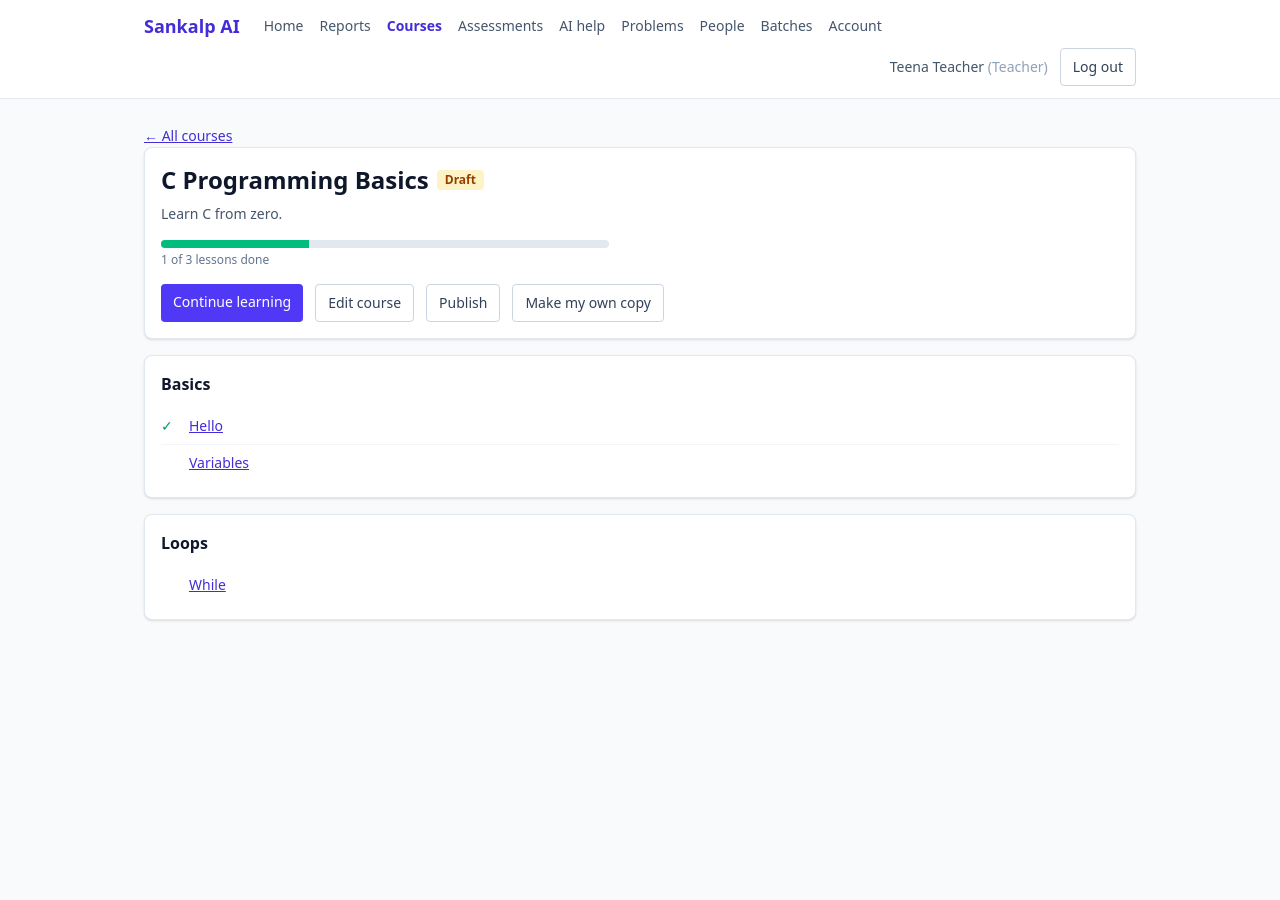
Test case: course page › an author can publish and unpublish
Check: the text "Draft" is shown, box [437,170,484,190]
Click the button "Publish" at {"x": 463, "y": 303}, box [426,284,500,322]
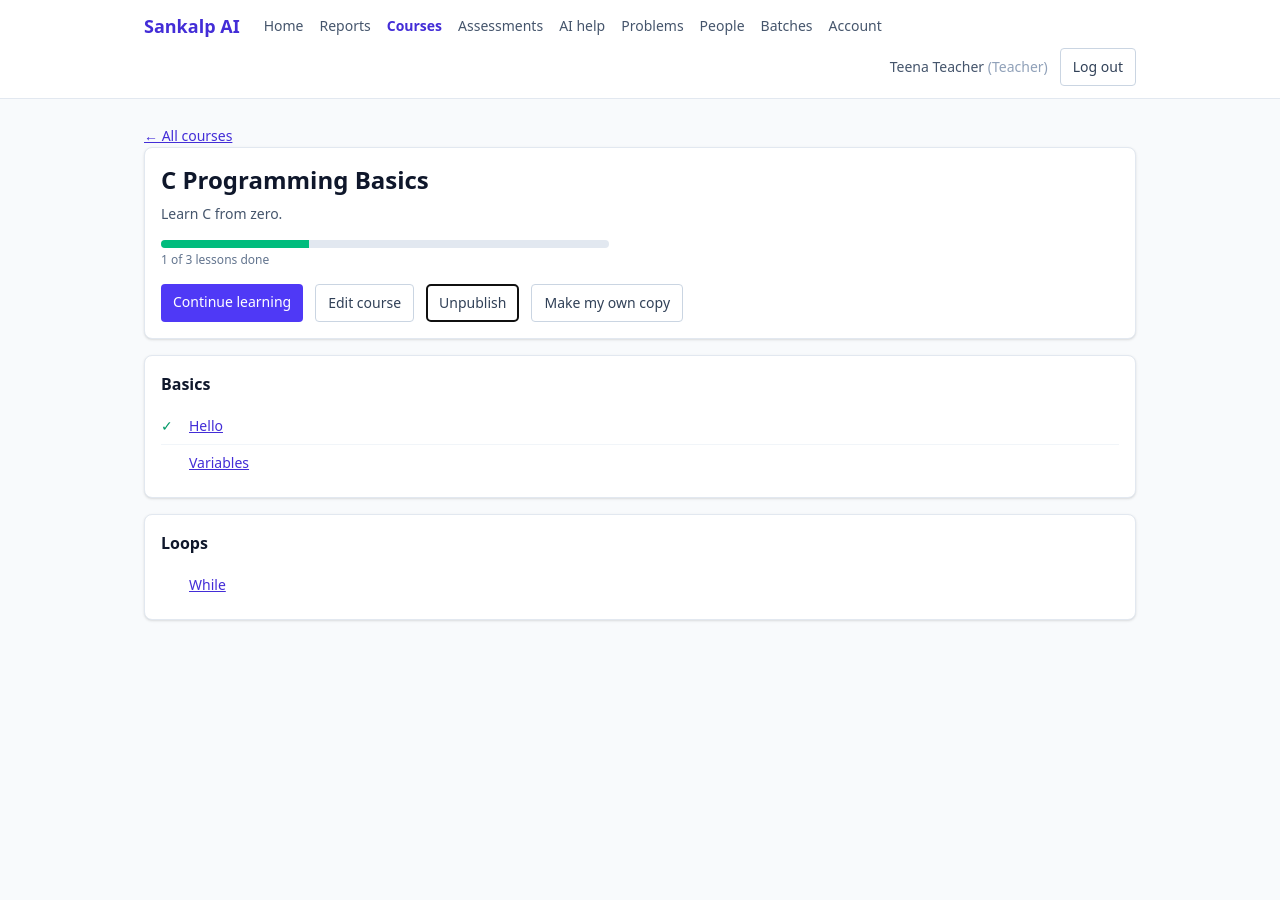
Check: the button "Unpublish" is shown, box [426,284,519,322]
Check: the text "Draft" is gone
